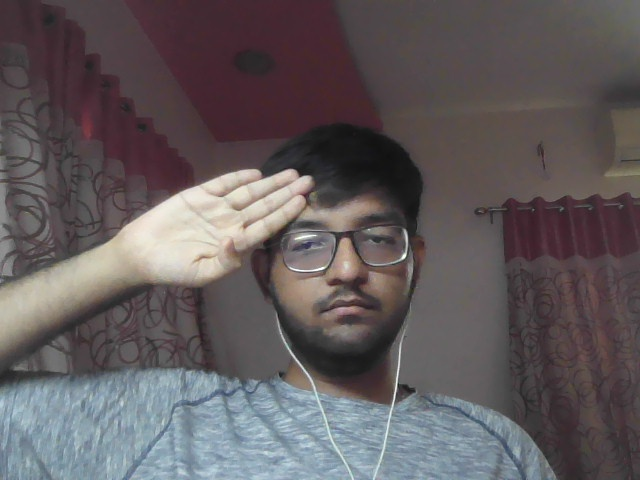નમસ્તે: (51, 152, 337, 298)
